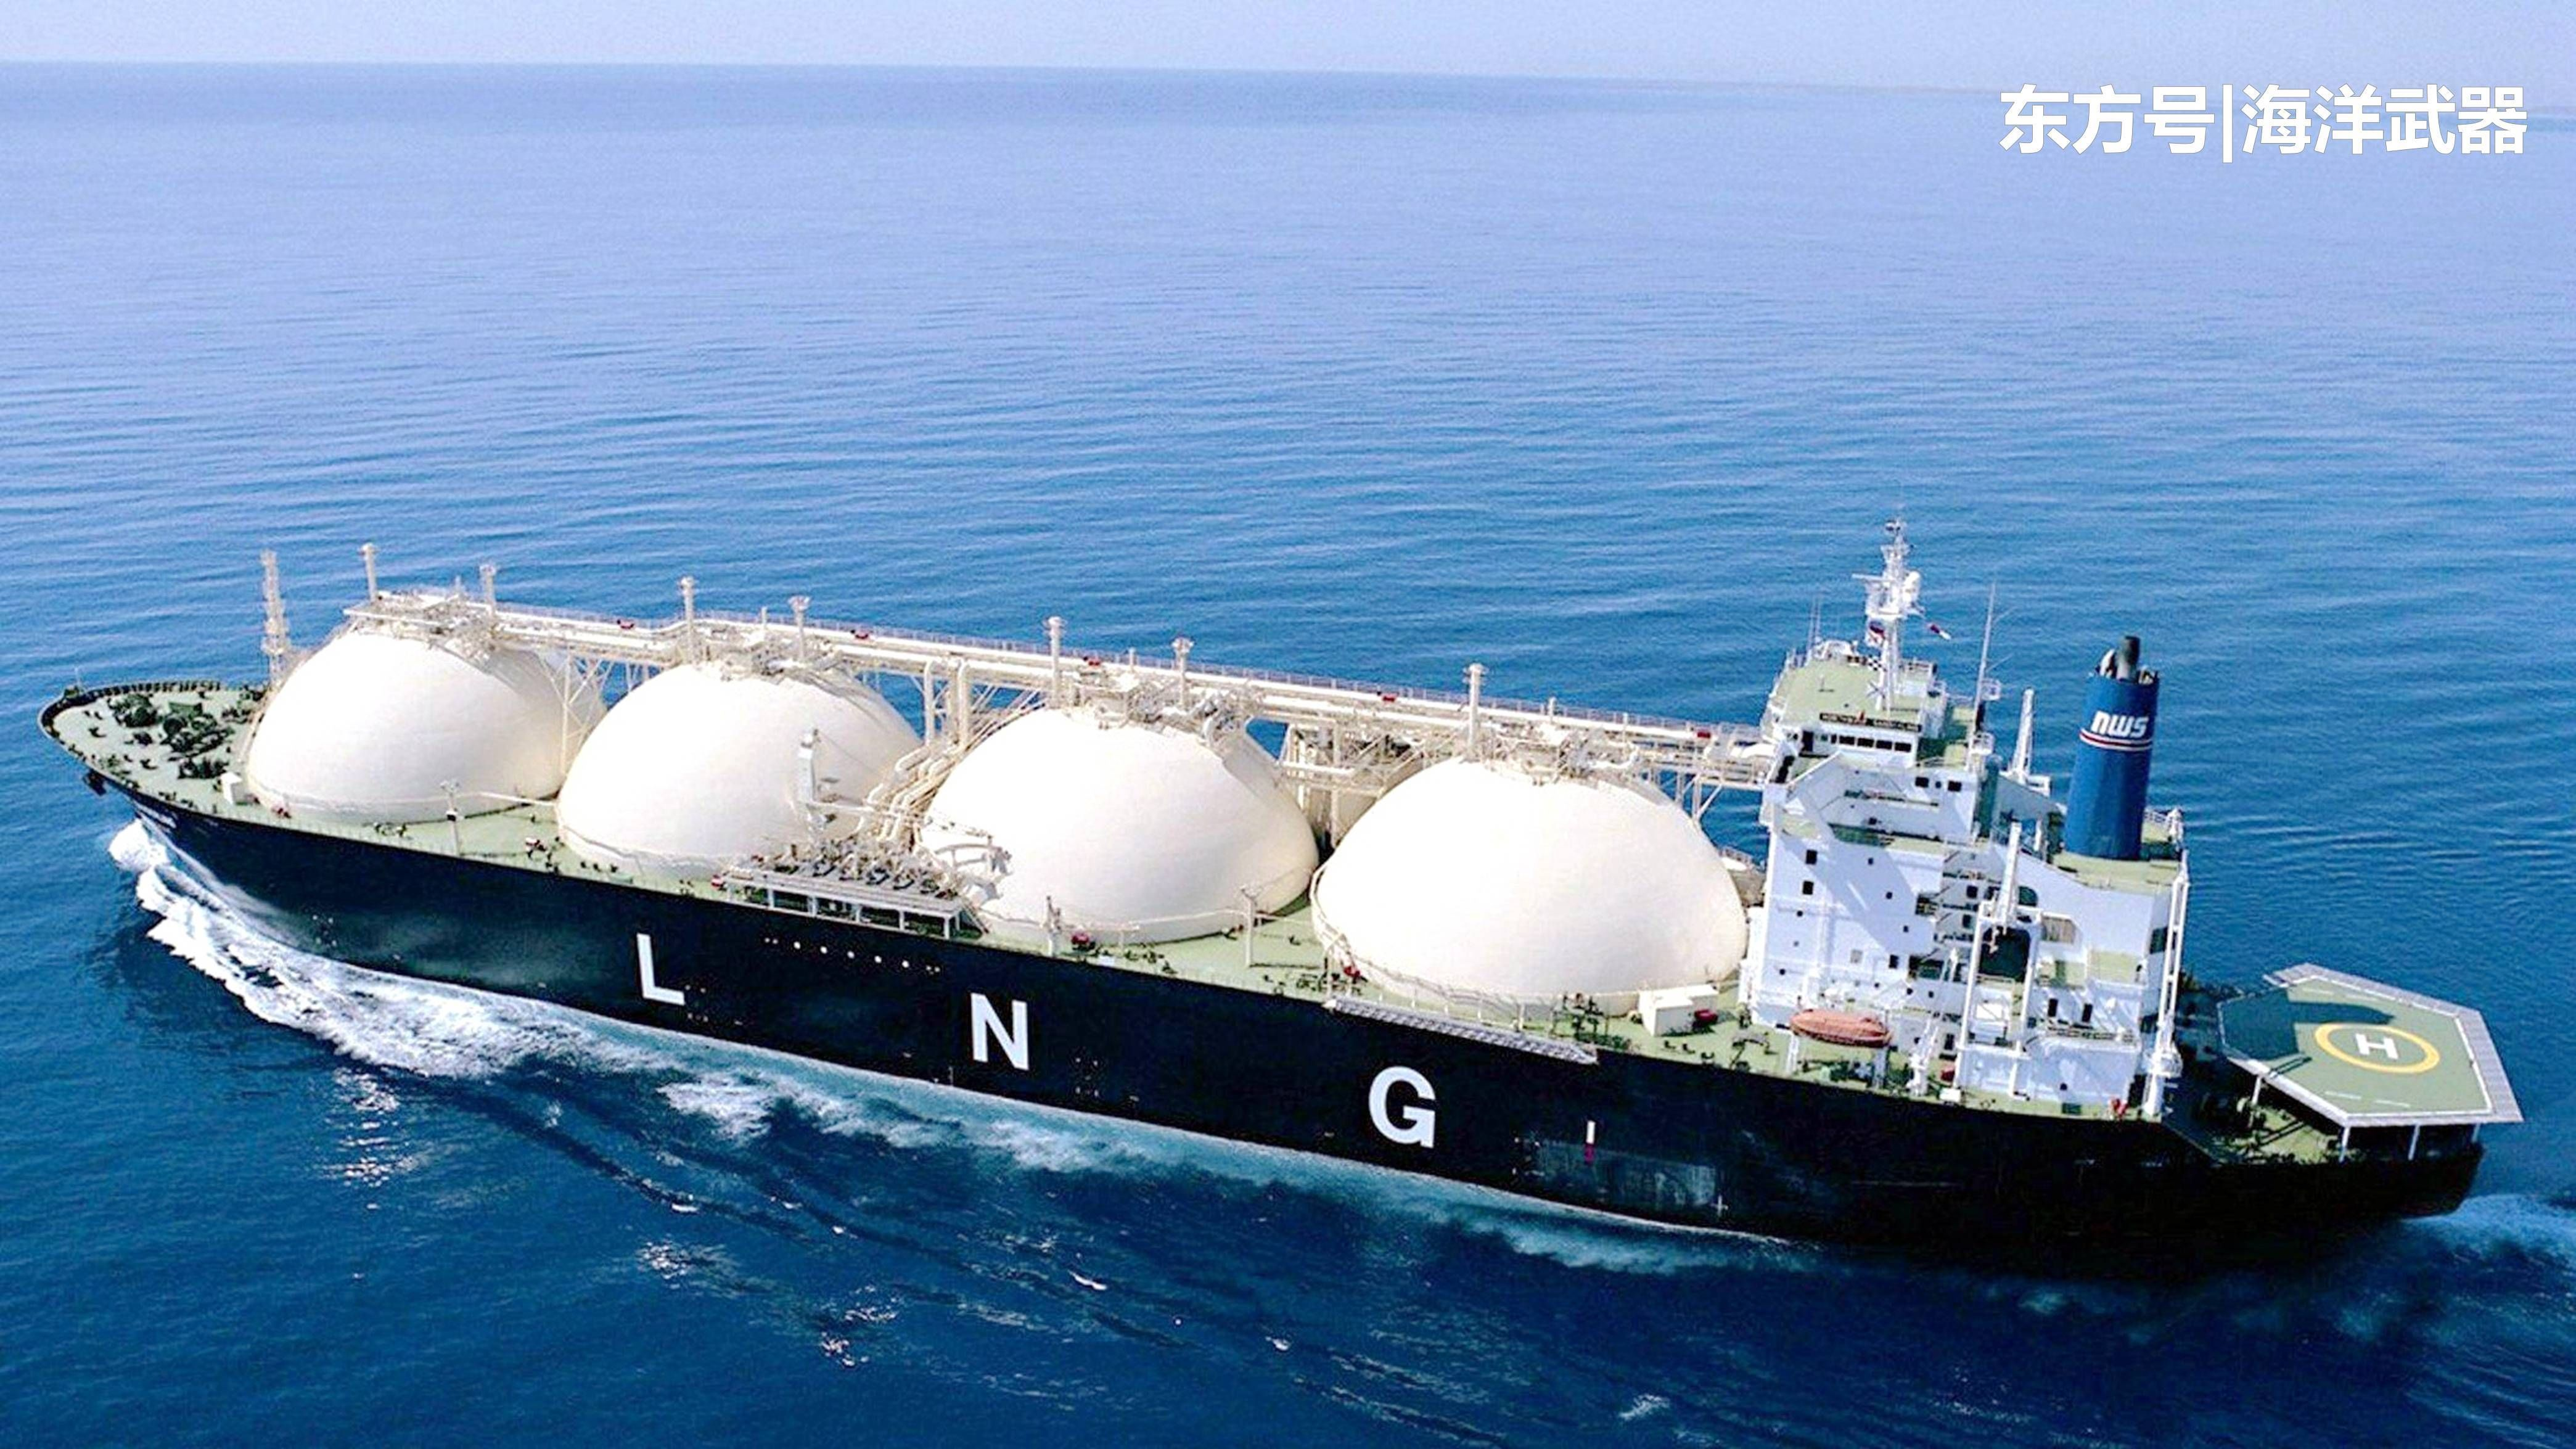Cargoship: (46, 538, 2528, 1258)
